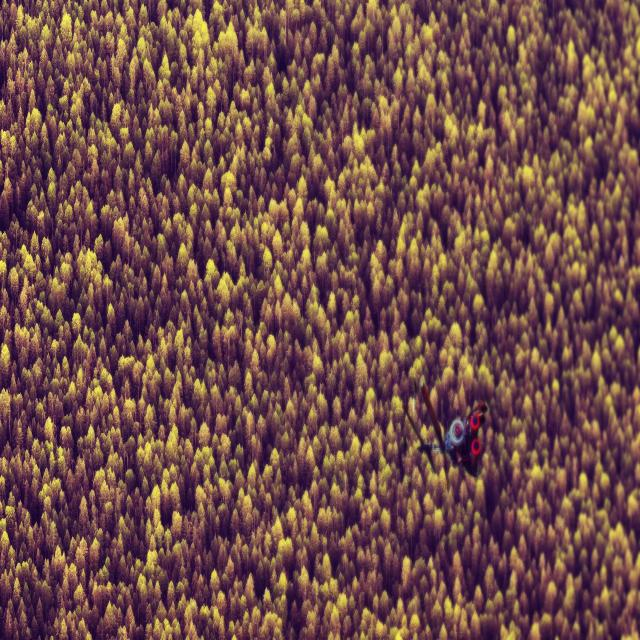airplane: (402, 378, 489, 479)
